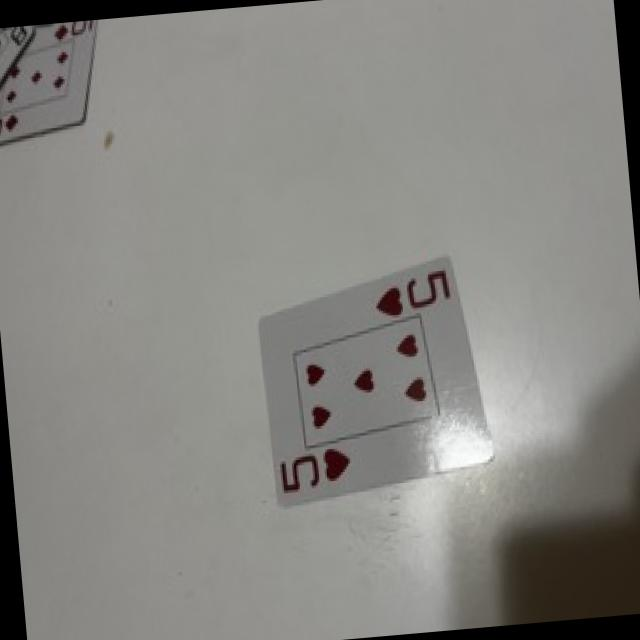5 of hearts: (261, 258, 491, 502)
